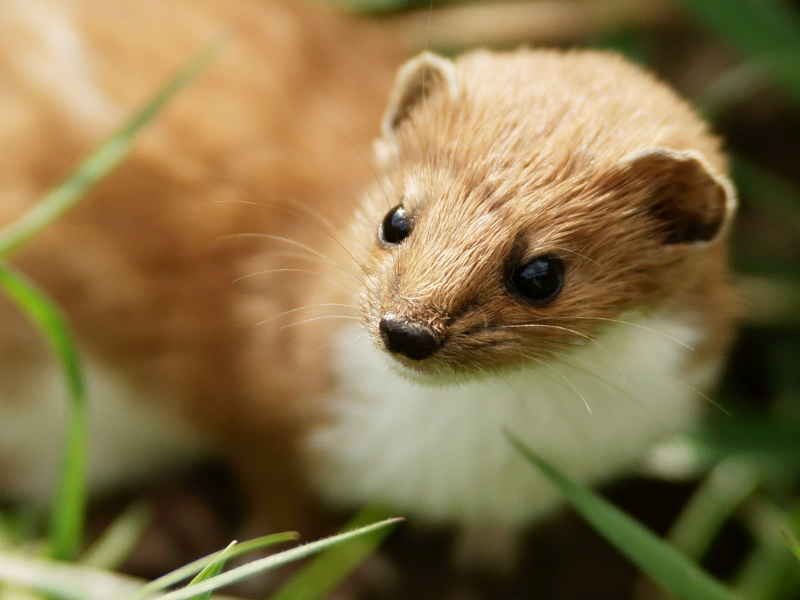minkish: (214, 41, 746, 548)
